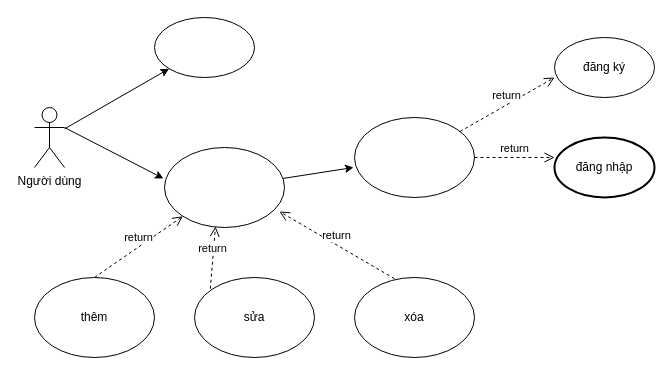
This 672x375 diagram has some shape labels left out. Here are the shapes that lost their labels. From the top down, the box of each, then its label:
(154, 16, 254, 78): tìm kiếm
(354, 116, 474, 198): thanh toán
(164, 146, 284, 228): Giỏ hàng
